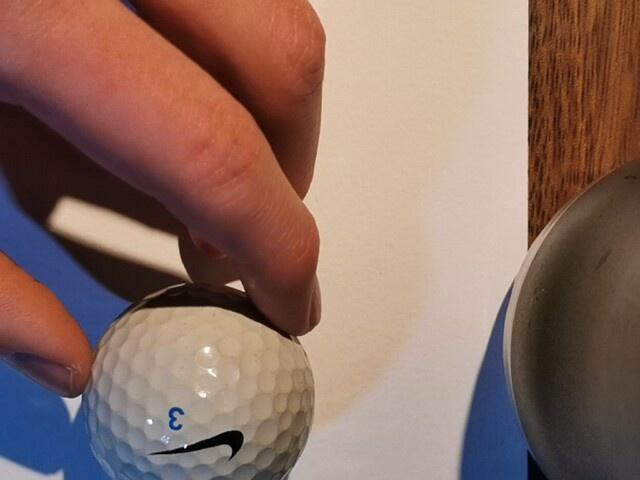Nike: (147, 430, 244, 461)
